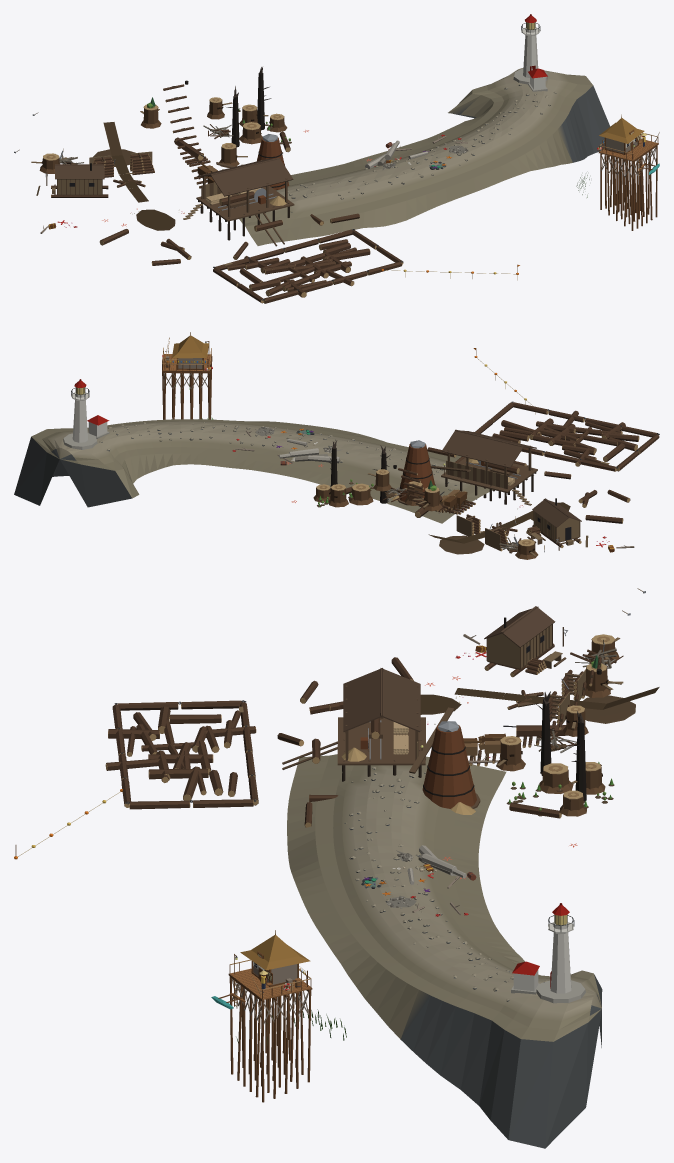
Rendered from chunk_-2_2.glb.
The picture shows the model from 3 angles, top to bottom: view 1: azimuth 30°, elevation 25°; view 2: azimuth 150°, elevation 25°; view 3: azimuth 270°, elevation 25°; orthographic projection. The views are drawn at different scales.
Parts seen in each view (by area): view 1: chunk_-2_2; view 2: chunk_-2_2; view 3: chunk_-2_2.
Part boxes in pixels (<box>): chunk_-2_2: <box>14,14,659,303</box>; chunk_-2_2: <box>14,332,659,559</box>; chunk_-2_2: <box>14,588,659,1148</box>.
Size of the model in its own units: 91.92 by 21.38 by 60.91.
